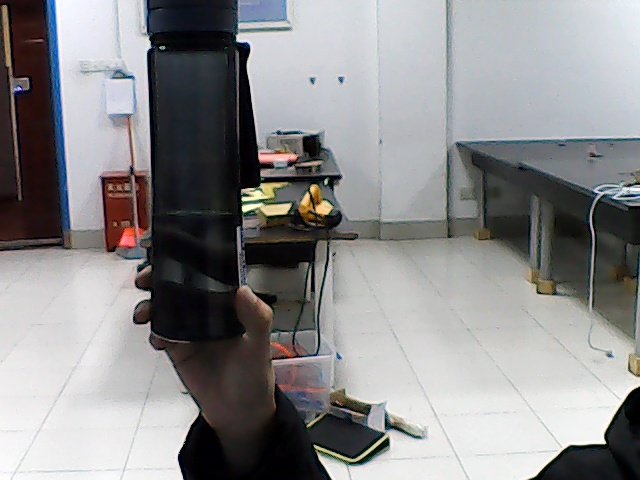cup: (146, 3, 237, 338)
